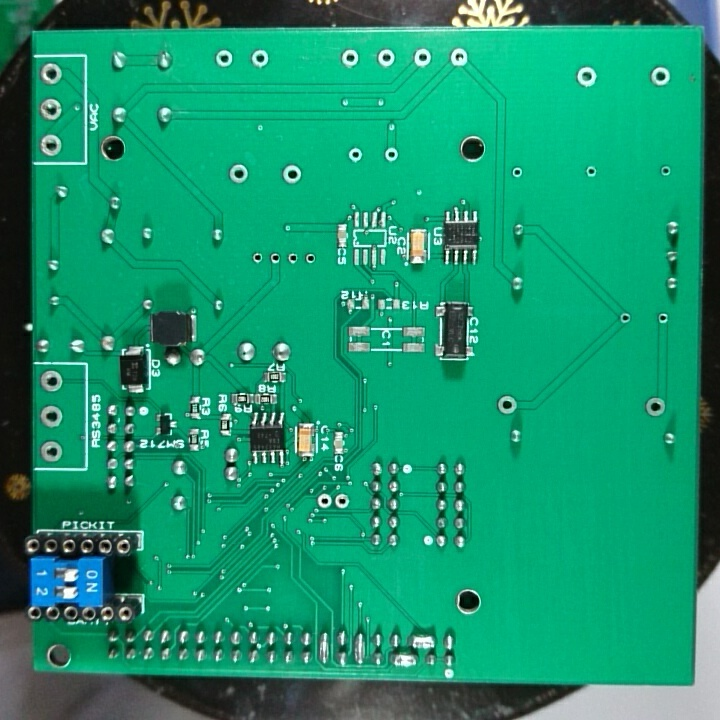F: (38, 403, 65, 431), (38, 368, 65, 395), (572, 63, 600, 89), (494, 390, 519, 418), (38, 440, 65, 465), (38, 96, 63, 123), (38, 61, 63, 88), (642, 393, 667, 420), (38, 132, 62, 160), (278, 161, 304, 186), (226, 161, 251, 186), (211, 46, 235, 71), (446, 45, 470, 70), (339, 46, 362, 71), (374, 45, 397, 70), (247, 46, 271, 69), (410, 46, 434, 69), (649, 65, 672, 89), (381, 145, 401, 165), (345, 145, 365, 165), (314, 490, 332, 512), (656, 161, 676, 180), (248, 249, 268, 268), (282, 249, 302, 268), (616, 309, 634, 329), (654, 309, 672, 329), (333, 489, 348, 512), (508, 163, 525, 182), (301, 247, 317, 267), (267, 249, 284, 267), (583, 163, 599, 182)
P: (407, 631, 438, 652), (315, 629, 332, 664), (351, 629, 367, 665), (388, 649, 417, 668)
